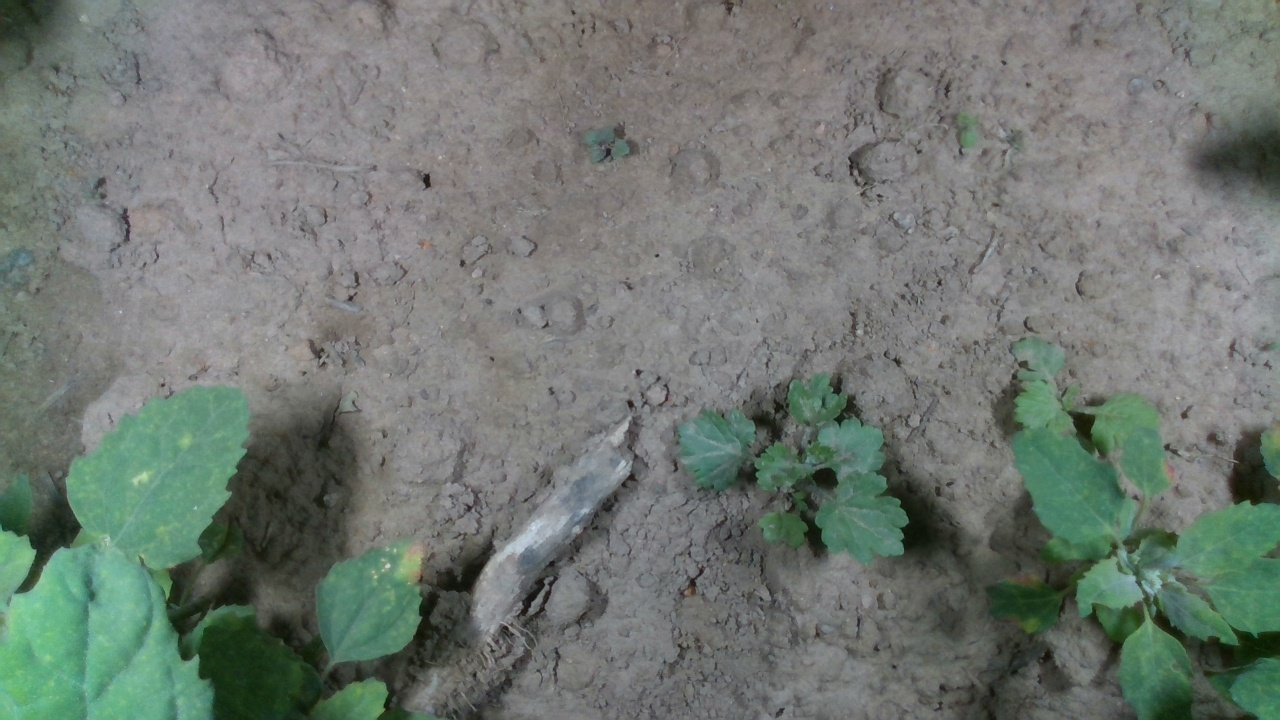weed: (579, 120, 630, 167), (953, 108, 977, 153)
